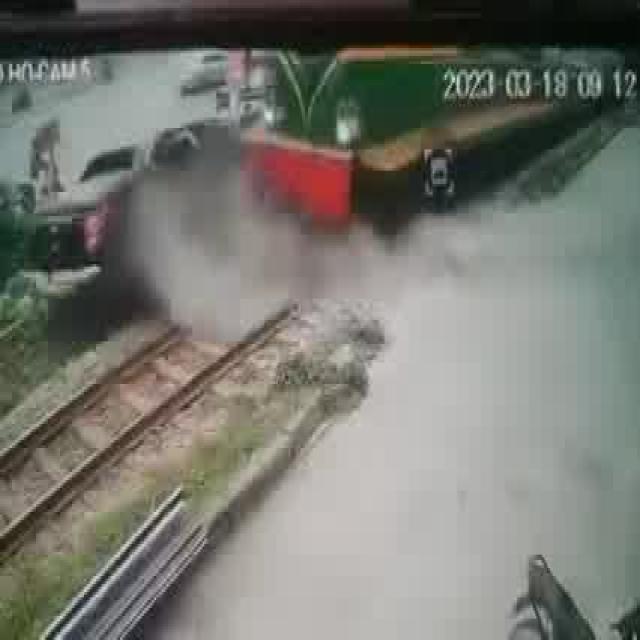multiple_accident: (12, 0, 462, 340)
